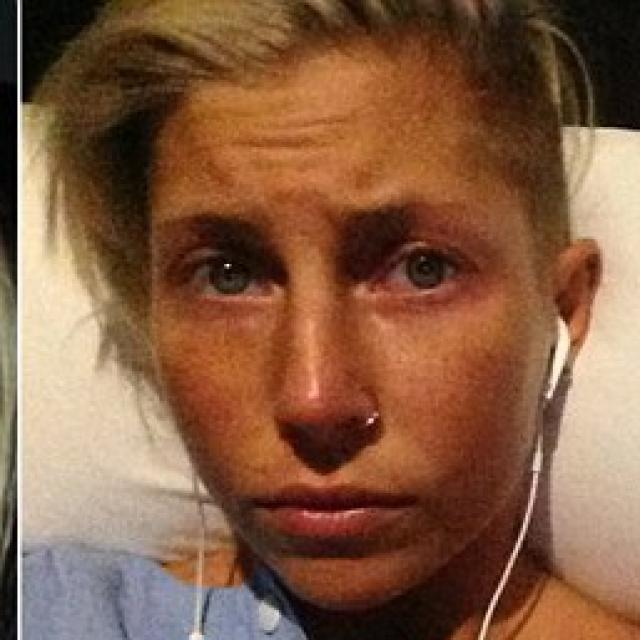Depress: (143, 51, 553, 614)
